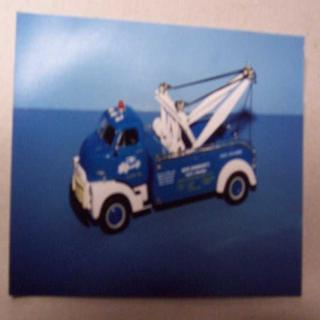Towing_truck: (69, 62, 259, 235)
